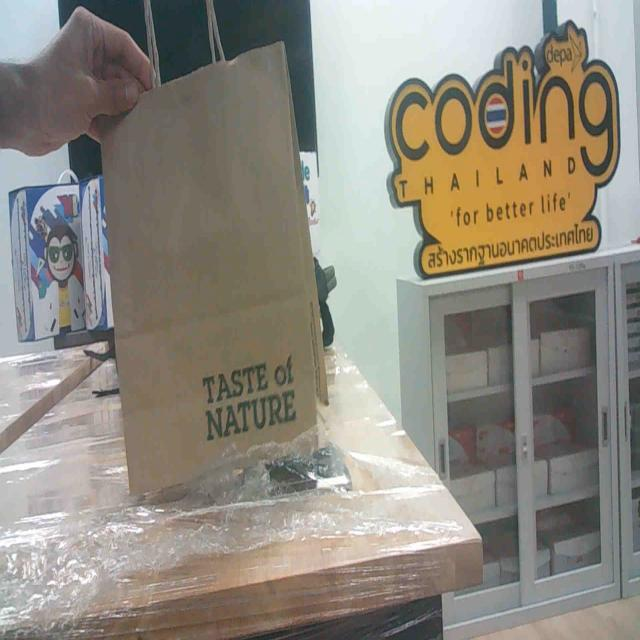bag: (93, 68, 338, 495)
